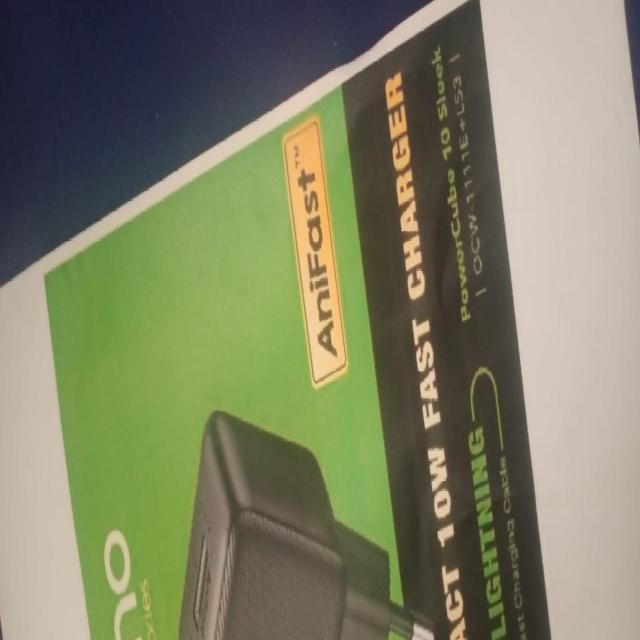PowerCube 10 Sleek OCW-1111ExL53: (428, 29, 489, 337)
